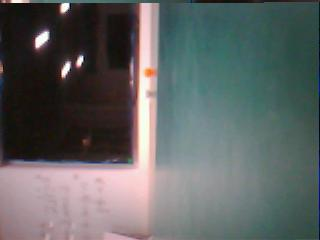oball: (144, 67, 153, 78)
